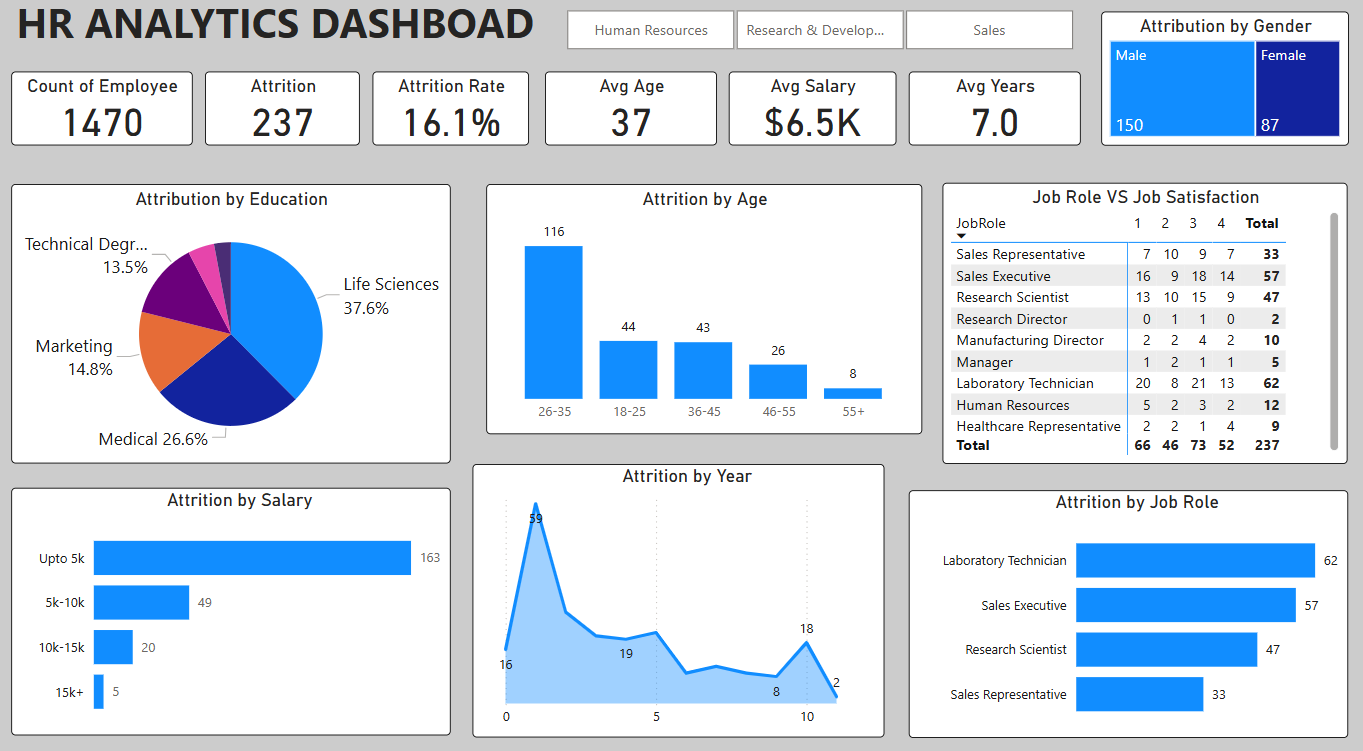

This screenshot's page, from the dashboard's own definition file:
{"tool":"powerbi","page":{"name":"Dashboard","canvas":[1280,720],"ordinal":0},"visuals":[{"type":"textbox","box":[20,1.4,531.4,88.6],"z":0},{"type":"slicer","fields":{"Values":["HR_Analytics.Department"]},"box":[516.3,12.8,515.1,50],"z":1000},{"type":"card","title":"Count of Employee","fields":{"Values":["_Measures.Employee_Count"]},"box":[20,77.1,168.6,68.6],"z":2000},{"type":"card","title":"Attrition","fields":{"Values":["_Measures.Attrition_Count"]},"box":[200,77.1,144.3,68.6],"z":3000},{"type":"card","title":"Attrition Rate","fields":{"Values":["_Measures.Attrition_rate"]},"box":[355.7,77.1,145.7,68.6],"z":4000},{"type":"card","title":"Avg Age","fields":{"Values":["_Measures.Average_Age"]},"box":[515.7,77.1,160,68.6],"z":5000},{"type":"card","title":"Avg Salary","fields":{"Values":["_Measures.Average_Salary"]},"box":[687.1,77.1,155.7,68.6],"z":6000},{"type":"card","title":"Avg Years","fields":{"Values":["_Measures.Average_Years"]},"box":[854.3,77.1,160,68.6],"z":7000},{"type":"pieChart","title":"Attribution by Education","fields":{"Y":["Sum(HR_Analytics.Attrition_no)"],"Category":["HR_Analytics.EducationField"]},"box":[20,181.4,408.6,260],"z":8000},{"type":"columnChart","title":"Attrition by Age","fields":{"Y":["Sum(HR_Analytics.Attrition_no)"],"Category":["HR_Analytics.AgeGroup"]},"box":[461.4,181.4,405.7,232.9],"z":9000},{"type":"barChart","title":"Attrition by Salary","fields":{"Y":["Sum(HR_Analytics.Attrition_no)"],"Category":["HR_Analytics.SalarySlab"]},"box":[20,464.3,408.6,230],"z":10000},{"type":"barChart","title":"Attrition by Job Role","fields":{"Y":["Sum(HR_Analytics.Attrition_no)"],"Category":["HR_Analytics.JobRole"]},"box":[854.3,465.7,408.6,230],"z":11000},{"type":"areaChart","title":"Attrition by Year","fields":{"Category":["HR_Analytics.YearsAtCompany"],"Y":["_Measures.Attrition_Count"]},"box":[448.6,441.4,382.9,254.3],"z":12000},{"type":"pivotTable","title":"Job Role VS Job Satisfaction","fields":{"Rows":["HR_Analytics.JobRole"],"Columns":["HR_Analytics.JobSatisfaction"],"Values":["_Measures.Attrition_Count"]},"box":[885.7,180,377.1,261.4],"z":13000},{"type":"treemap","title":"Attribution by Gender","fields":{"Group":["HR_Analytics.Gender"],"Values":["_Measures.Attrition_Count"]},"box":[1033.3,21.1,230,124.4],"z":14000}]}

Visuals, with their boxes in screenshot pixels (x1, y1, x2, y2), scaled from the page's 1280x720 canvas onto the 1363x751 screenshot:
textbox: bbox(21, 1, 587, 94)
slicer - HR_Analytics.Department: bbox(550, 13, 1098, 66)
"Count of Employee" card: bbox(21, 80, 201, 152)
"Attrition" card: bbox(213, 80, 367, 152)
"Attrition Rate" card: bbox(379, 80, 534, 152)
"Avg Age" card: bbox(549, 80, 720, 152)
"Avg Salary" card: bbox(732, 80, 897, 152)
"Avg Years" card: bbox(910, 80, 1080, 152)
"Attribution by Education" pieChart: bbox(21, 189, 456, 460)
"Attrition by Age" columnChart: bbox(491, 189, 923, 432)
"Attrition by Salary" barChart: bbox(21, 484, 456, 724)
"Attrition by Job Role" barChart: bbox(910, 486, 1345, 726)
"Attrition by Year" areaChart: bbox(478, 460, 885, 726)
"Job Role VS Job Satisfaction" pivotTable: bbox(943, 188, 1345, 460)
"Attribution by Gender" treemap: bbox(1100, 22, 1345, 152)
